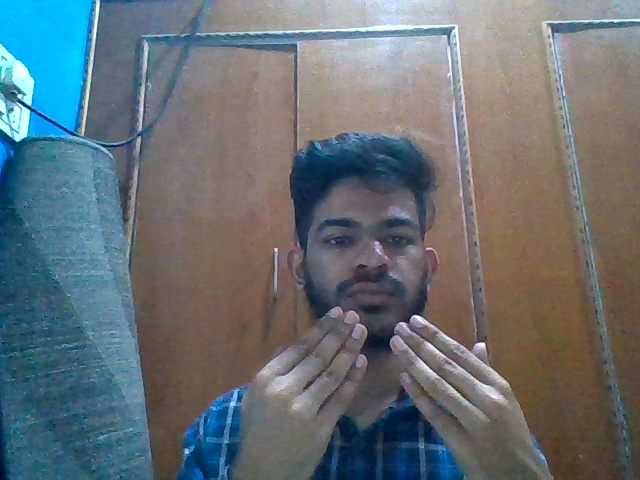thanks: (238, 301, 548, 480)
